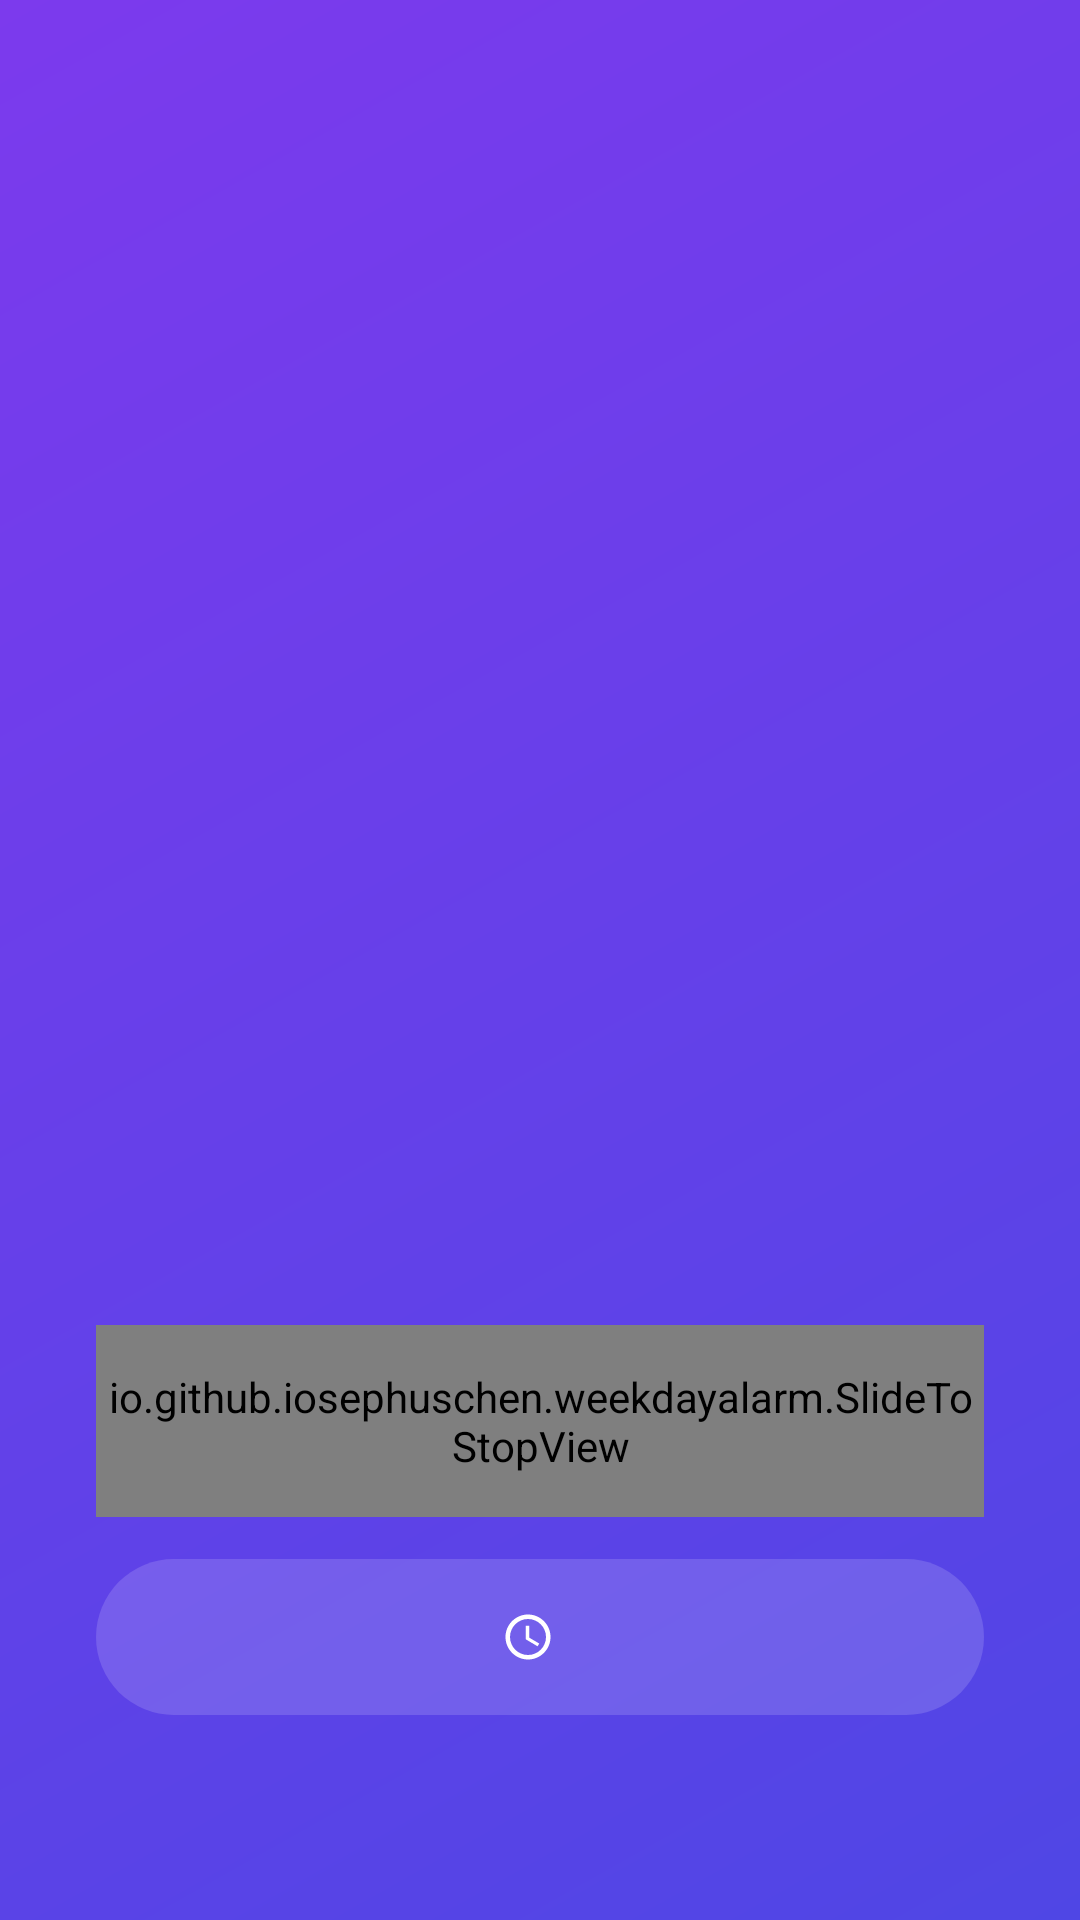

Named icons in this screenshot (1080×1920) and their bounding boxes, (x1, y1, x2, y2):
snooze pill: (505, 1614, 551, 1660)
